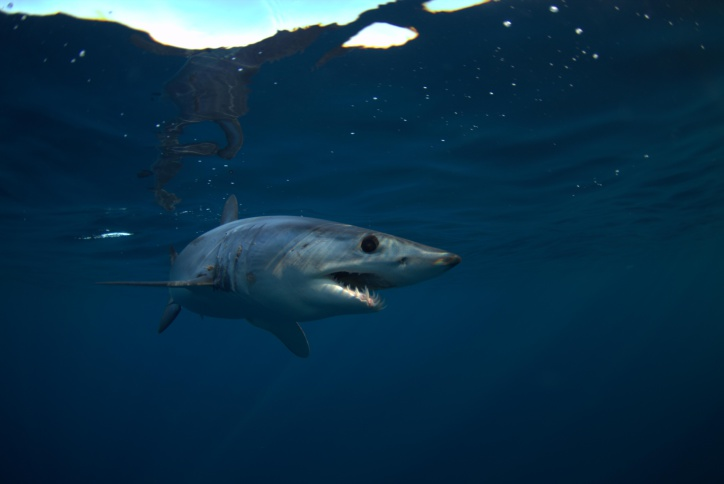Mako: (84, 187, 467, 369)
